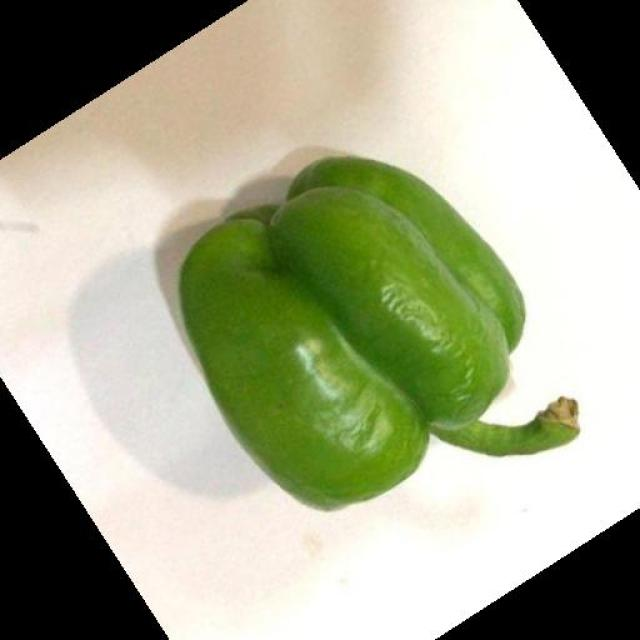Fresh_Capsicum: (175, 138, 607, 492)
